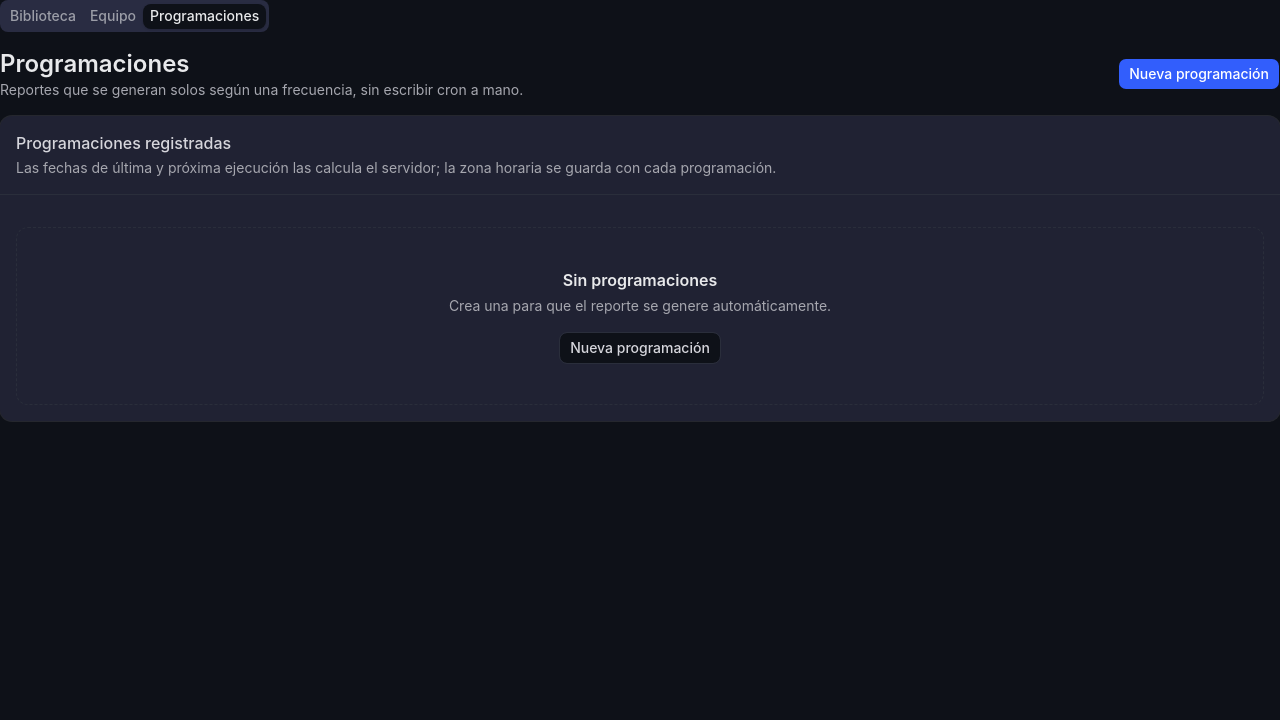
Test: ReportSchedulesPage — tabla de programaciones (C7) › vacío: explica el estado y ofrece crear la primera programación
Expected: the text "Sin programaciones" is shown, x1=563 y1=270 x2=717 y2=290
Step 1. Click the button with test id "schedule-new-empty" → [640, 348], box x1=559 y1=332 x2=721 y2=364
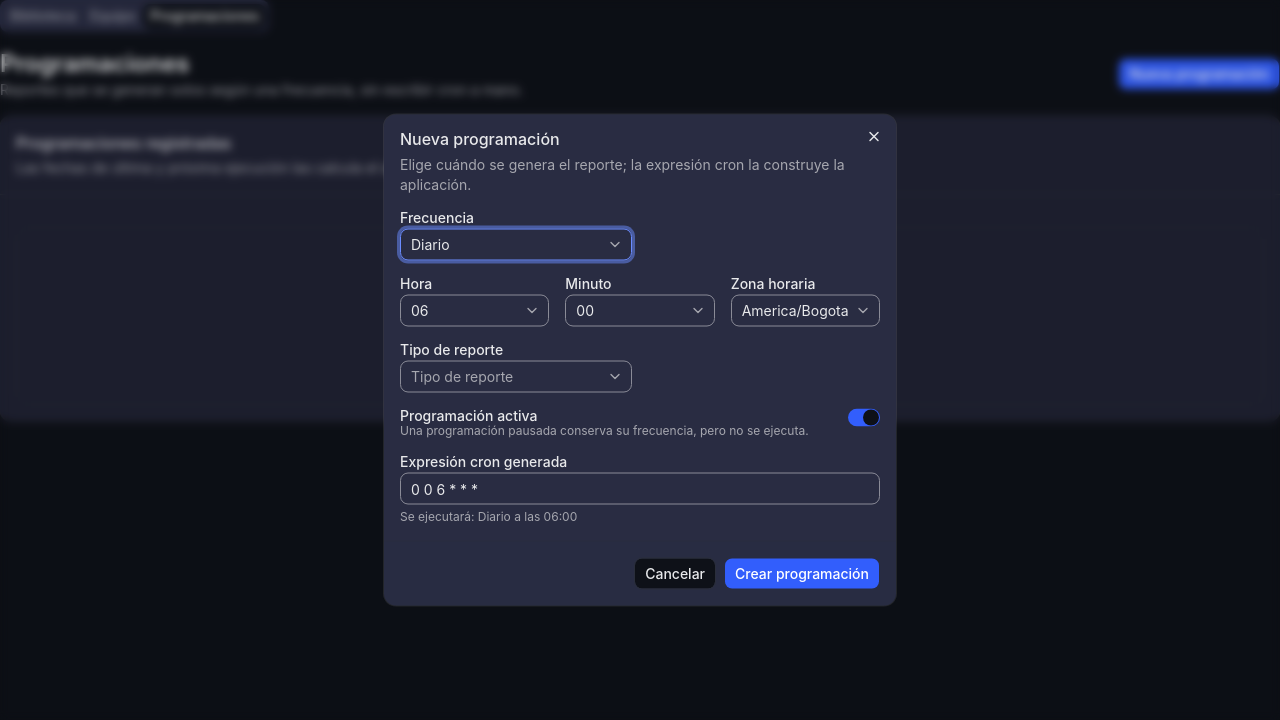
Expected: the dialog with test id "schedule-form" is shown, x1=384 y1=114 x2=896 y2=606
Expected: the field with test id "schedule-cron-preview" holds "0 0 6 * * *", x1=400 y1=472 x2=880 y2=504
